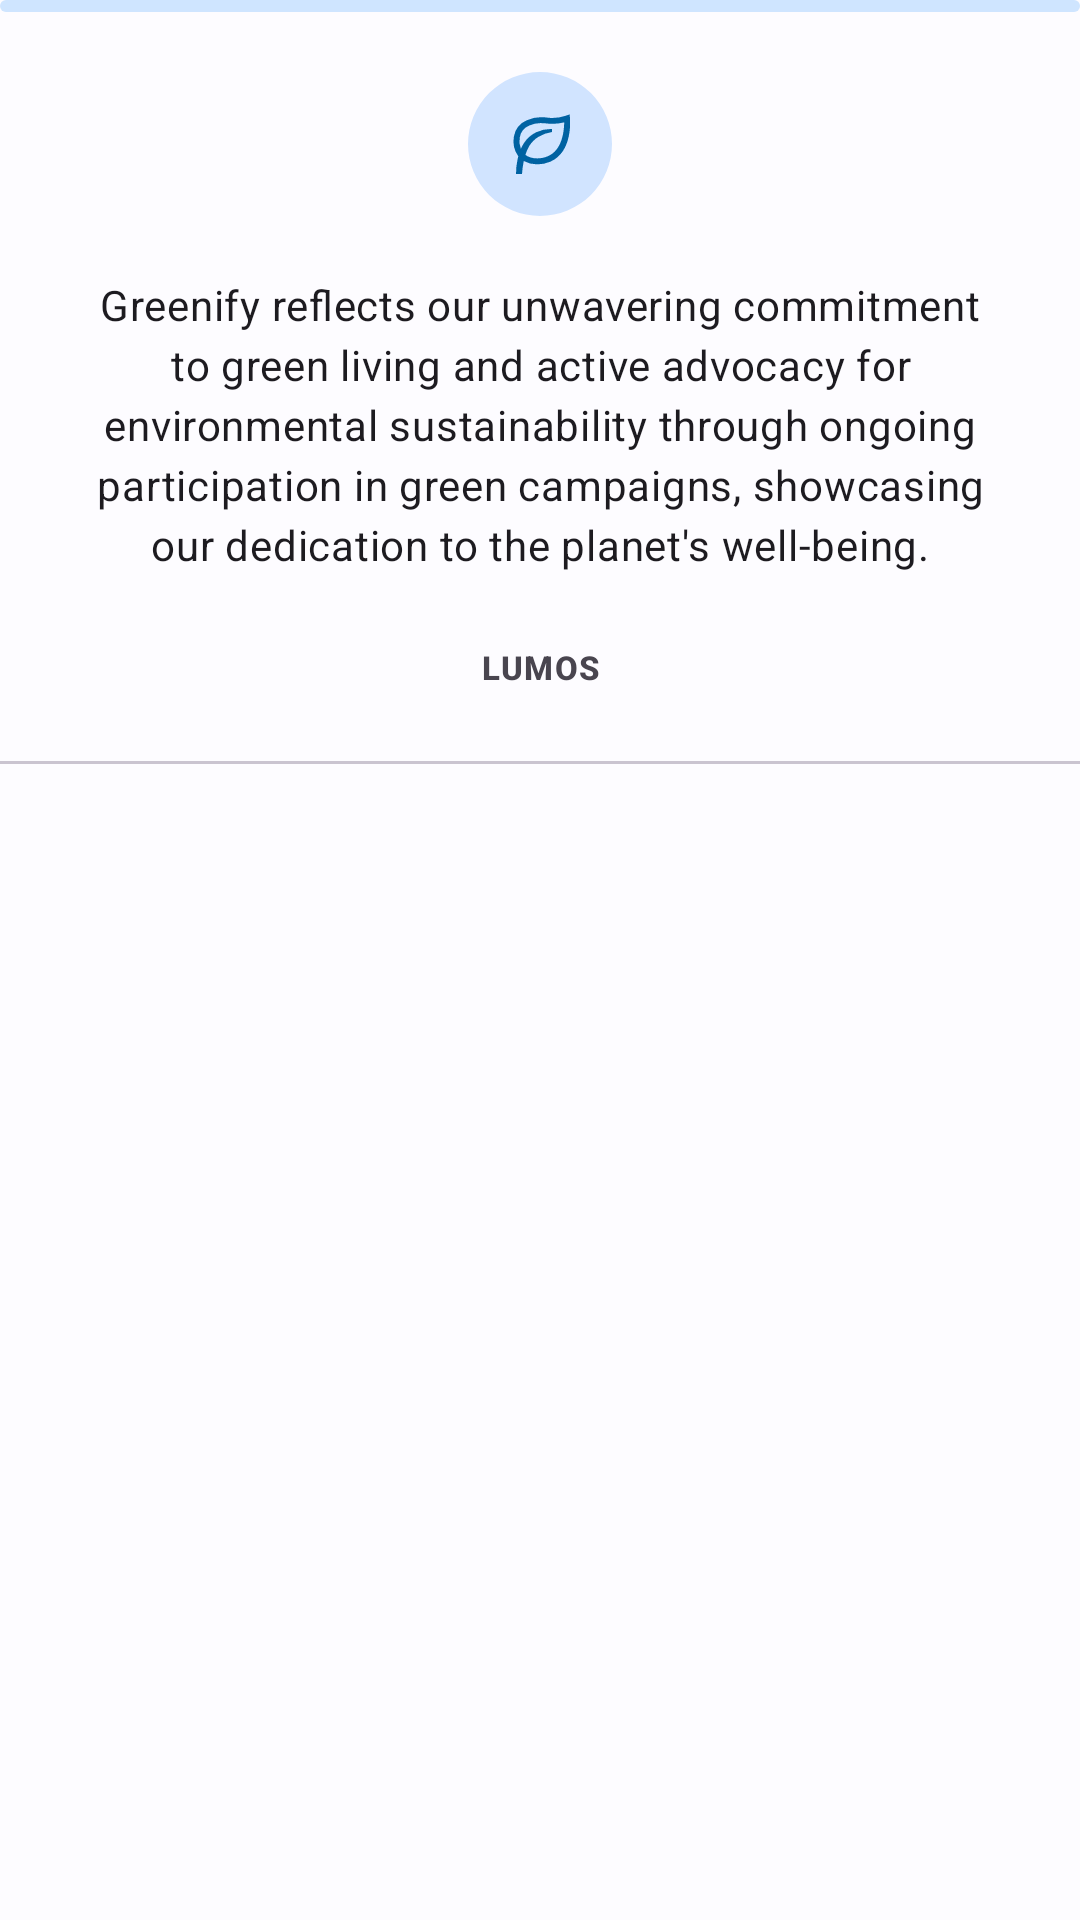

Named icons in this screenshot (1080 x 1920) and their bounding boxes, bbox=(x1, y1, x2, y2):
leaf: bbox=(468, 72, 612, 216)
